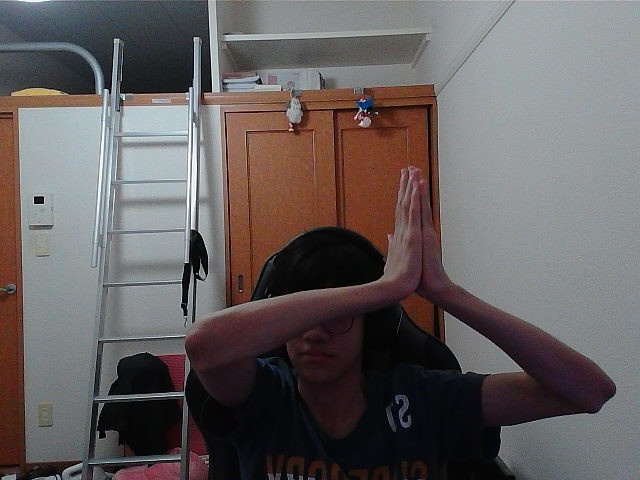pray: (391, 173, 419, 276)
